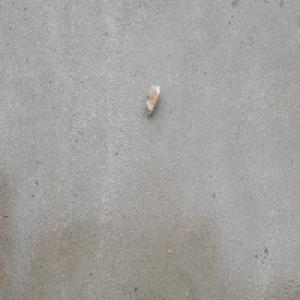Rock: (144, 83, 161, 117)
